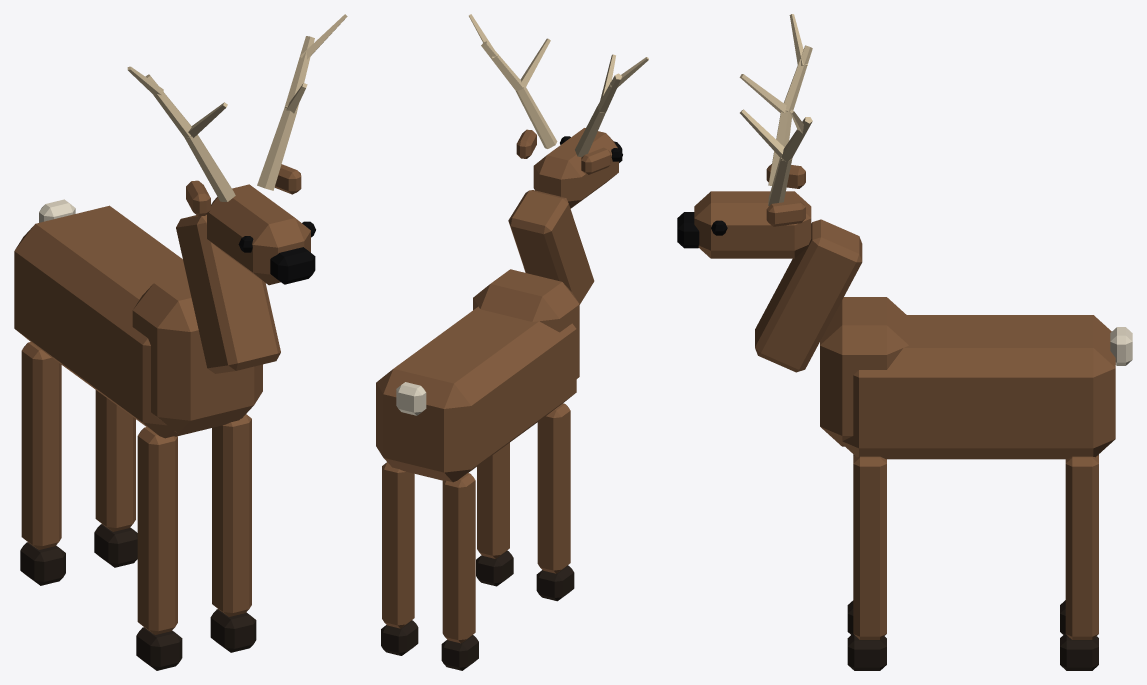
The model's file is deer.glb.
The picture shows the model from 3 angles, left to right: view 1: azimuth 30°, elevation 25°; view 2: azimuth 150°, elevation 25°; view 3: azimuth 270°, elevation 25°; orthographic projection. The views are drawn at different scales.
Visible parts, largest first — view 1: Deer; view 2: Deer; view 3: Deer.
Boxes of the visible parts, <box> form: Deer: <box>14,14,347,670</box>; Deer: <box>376,14,648,670</box>; Deer: <box>677,14,1132,670</box>.
Size of the model in its own units: 0.4157 by 1.16 by 0.815.
